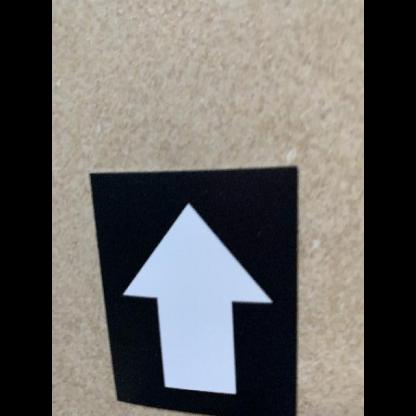up: (88, 166, 300, 416)
